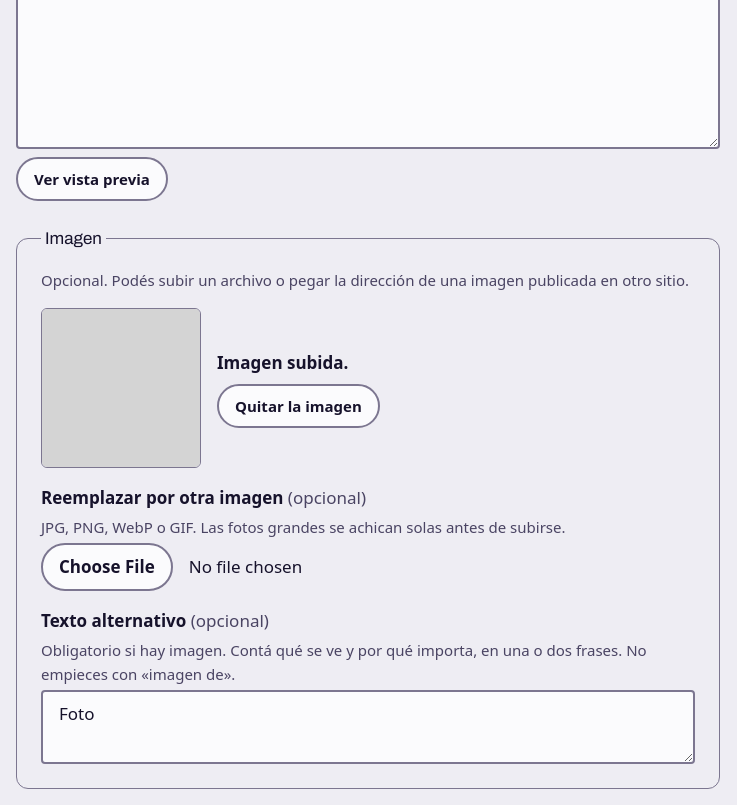
Formulario de publicación › "Quitar la imagen" la saca y devuelve el foco al selector de archivo
(page scrolled)
Click the button "Quitar la imagen": (298, 406) [217,384,380,428]
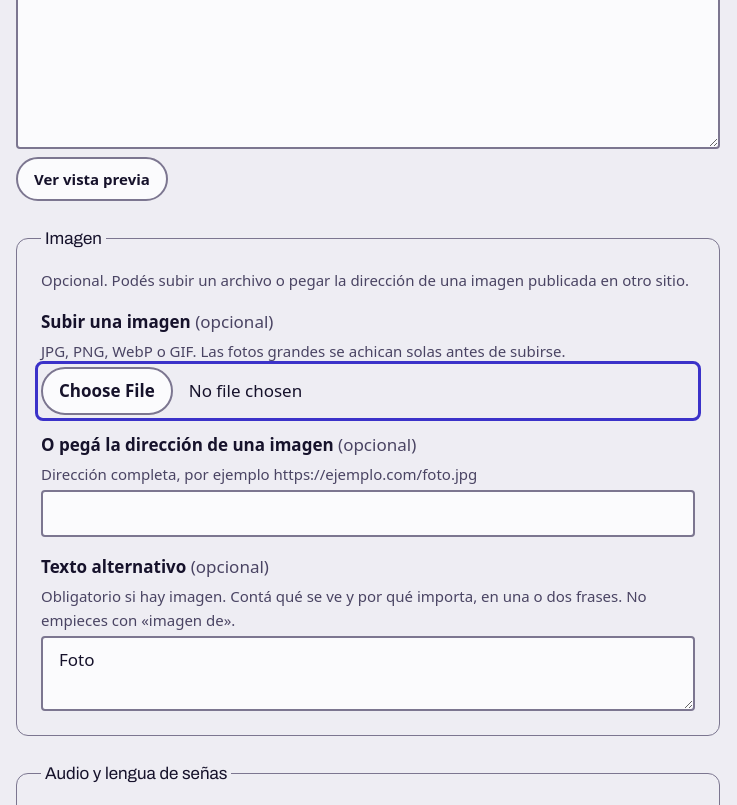
expect the text "Imagen subida." is gone: met
